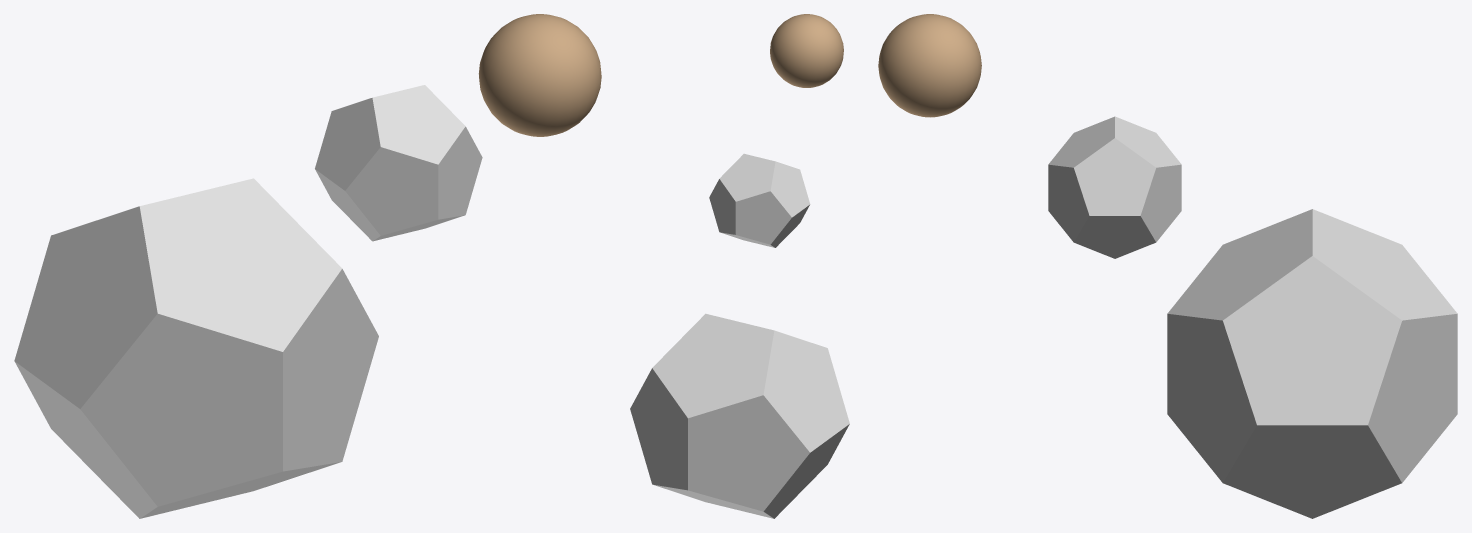
The picture shows the model from 3 angles, left to right: view 1: azimuth 30°, elevation 25°; view 2: azimuth 150°, elevation 25°; view 3: azimuth 270°, elevation 25°; orthographic projection. The views are drawn at different scales.
Parts seen in each view (by area): view 1: Dodecahedron (×2), Sphere; view 2: Dodecahedron (×2), Sphere; view 3: Dodecahedron (×2), Sphere.
Part boxes in pixels (left/top/right/bottom): Dodecahedron (×2): left=14, top=85, right=482, bottom=518; Sphere: left=478, top=14, right=601, bottom=136; Dodecahedron (×2): left=630, top=153, right=849, bottom=518; Sphere: left=770, top=14, right=843, bottom=87; Dodecahedron (×2): left=1048, top=116, right=1457, bottom=518; Sphere: left=878, top=14, right=981, bottom=117.
Bounding box in the file's own units: 5.98 × 11.17 × 11.19.
